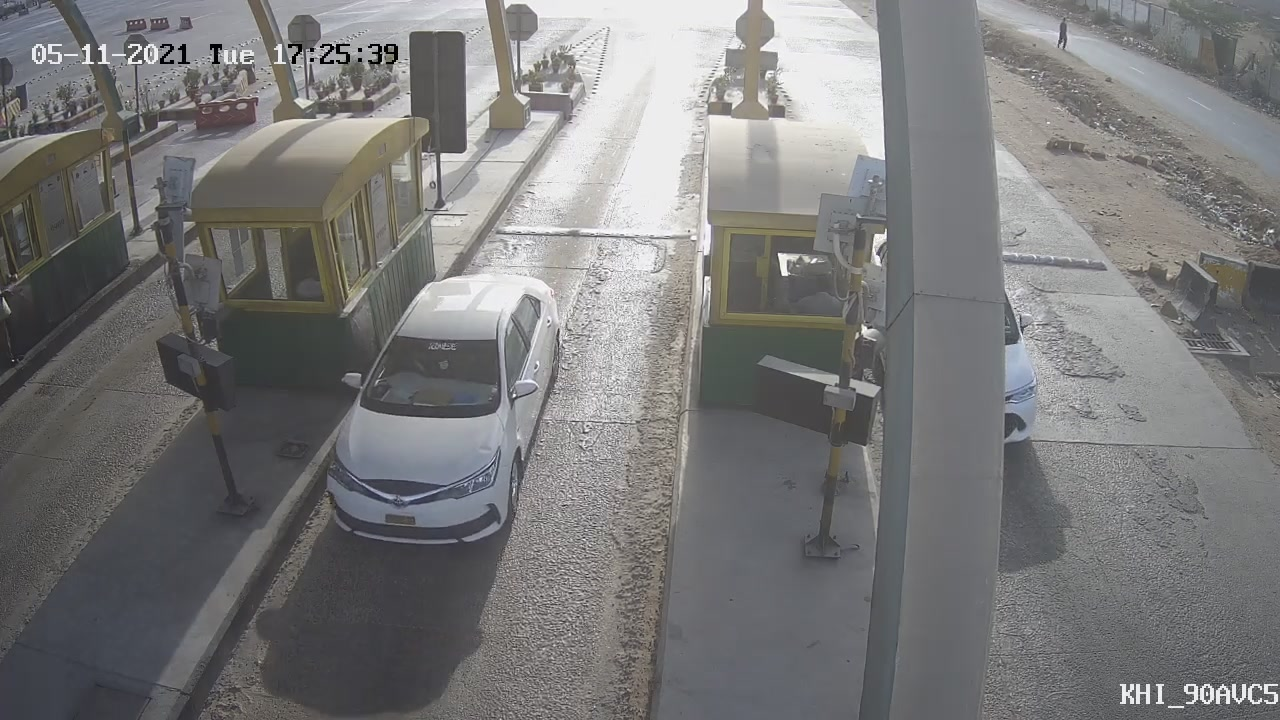F1: (294, 251, 587, 577)
